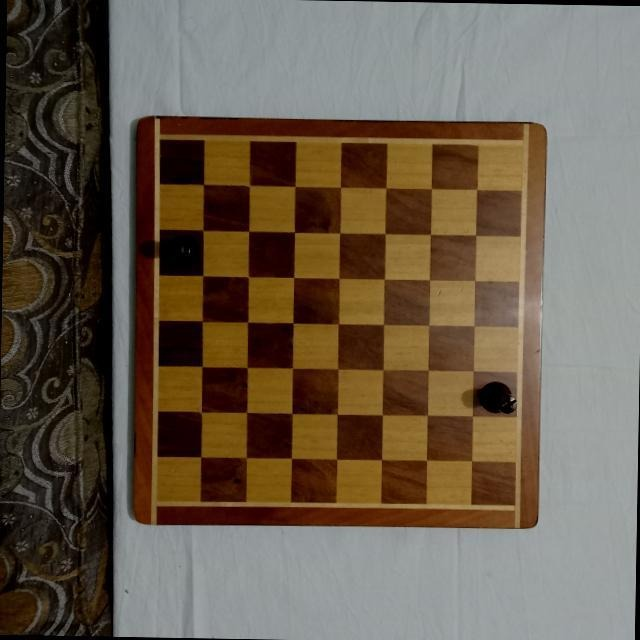black-rook: (477, 380, 519, 416), (164, 234, 200, 266)
